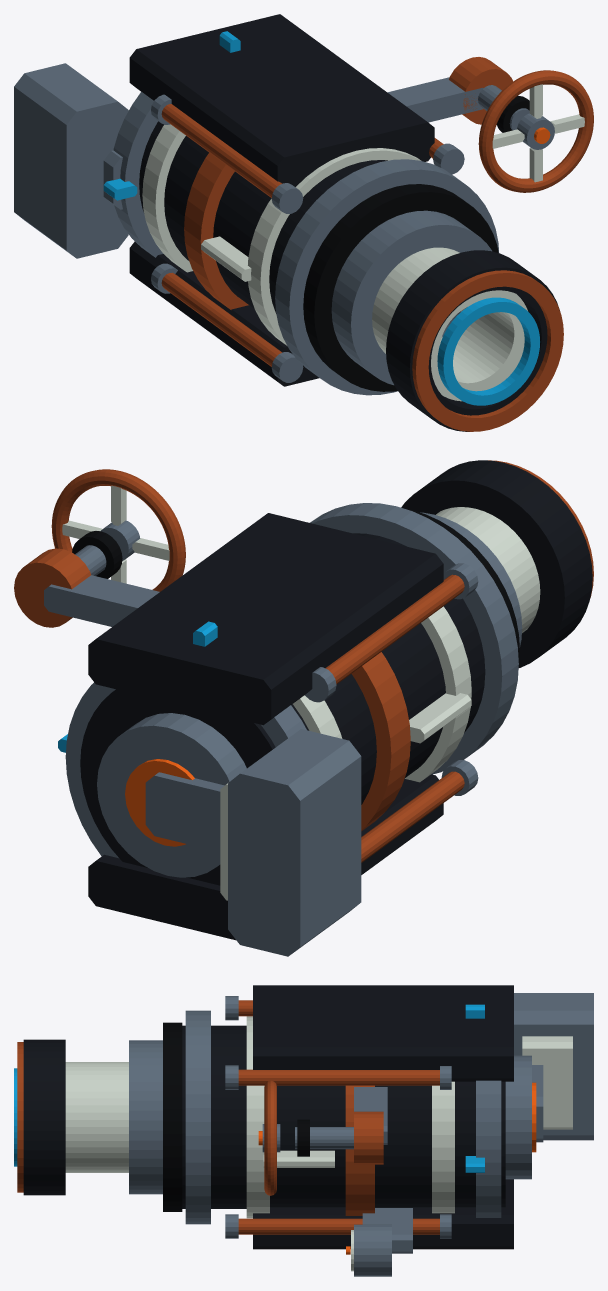
Rendered from M01-021_plasma_canister_nozzle.obj.
3 renders of one model, top to bottom at view 1: azimuth 30°, elevation 25°; view 2: azimuth 150°, elevation 25°; view 3: azimuth 270°, elevation 25°, orthographic. The views are drawn at different scales.
Visible parts, largest first — view 1: Upper_Cradle, Mount_Side_Key, Tank_Front_Ferrule, Front_Insulator, Nozzle_Base, Pressure_Tank_Core, Nozzle_Graphite_Skirt, Nozzle_Ceramic_Throat, Nozzle_Copper_Lip, Valve_Handwheel_Rim, Nozzle_Plasma_Liner, Tank_Ceramic_Band_B (+16 smaller); view 2: Upper_Cradle, Mount_Side_Key, Pressure_Tank_Core, Nozzle_Graphite_Skirt, Rear_Pressure_Cap, Tank_Front_Ferrule, Lower_Cradle, Copper_Pressure_Band, Side_Load_Beam, Valve_Handwheel_Rim, Nozzle_Ceramic_Throat, Tank_Ceramic_Band_B (+15 smaller); view 3: Upper_Cradle, Pressure_Tank_Core, Nozzle_Ceramic_Throat, Nozzle_Graphite_Skirt, Mount_Side_Key, Lower_Cradle, Tank_Front_Ferrule, Nozzle_Base, Front_Insulator, Tank_Rear_Ferrule, Mount_Lock_Ceramic, Pressure_Bypass_01 (+16 smaller).
Part boxes in pixels (<box>): Upper_Cradle: <box>129,14,434,186</box>; Mount_Side_Key: <box>14,63,128,258</box>; Tank_Front_Ferrule: <box>275,159,498,395</box>; Front_Insulator: <box>303,184,498,391</box>; Nozzle_Base: <box>331,210,491,385</box>; Pressure_Tank_Core: <box>139,121,387,313</box>; Nozzle_Graphite_Skirt: <box>386,250,559,431</box>; Nozzle_Ceramic_Throat: <box>372,247,527,401</box>; Nozzle_Copper_Lip: <box>412,270,563,431</box>; Valve_Handwheel_Rim: <box>478,70,593,192</box>; Nozzle_Plasma_Liner: <box>437,297,539,405</box>; Tank_Ceramic_Band_B: <box>248,148,421,345</box>; Upper_Cradle: <box>88,513,443,725</box>; Mount_Side_Key: <box>228,729,361,956</box>; Pressure_Tank_Core: <box>80,533,485,885</box>; Nozzle_Graphite_Skirt: <box>401,460,592,667</box>; Rear_Pressure_Cap: <box>97,713,246,877</box>; Tank_Front_Ferrule: <box>310,503,518,774</box>; Lower_Cradle: <box>88,774,443,940</box>; Copper_Pressure_Band: <box>351,652,410,831</box>; Side_Load_Beam: <box>145,772,224,851</box>; Valve_Handwheel_Rim: <box>51,469,185,591</box>; Nozzle_Ceramic_Throat: <box>436,507,540,632</box>; Tank_Ceramic_Band_B: <box>405,606,471,782</box>; Upper_Cradle: <box>253,985,513,1081</box>; Pressure_Tank_Core: <box>182,1025,505,1208</box>; Nozzle_Ceramic_Throat: <box>65,1062,128,1172</box>; Nozzle_Graphite_Skirt: <box>23,1039,65,1195</box>; Mount_Side_Key: <box>514,993,593,1140</box>; Lower_Cradle: <box>253,1179,513,1249</box>; Tank_Front_Ferrule: <box>185,1010,210,1224</box>; Nozzle_Base: <box>129,1040,162,1194</box>; Front_Insulator: <box>163,1022,182,1211</box>; Tank_Rear_Ferrule: <box>476,1080,501,1217</box>; Mount_Lock_Ceramic: <box>522,1036,572,1129</box>; Pressure_Bypass_01: <box>238,1069,439,1085</box>.
Size of the model in its own units: 0.957 by 0.5895 by 1.38.
